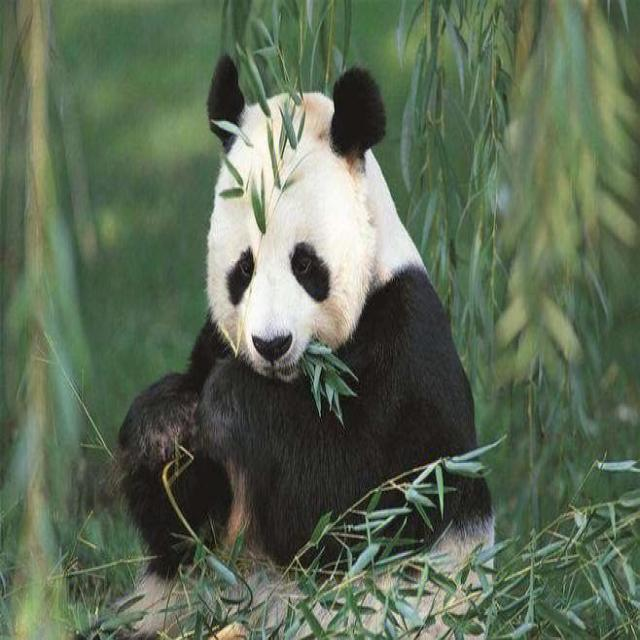panda: (83, 44, 501, 640)
